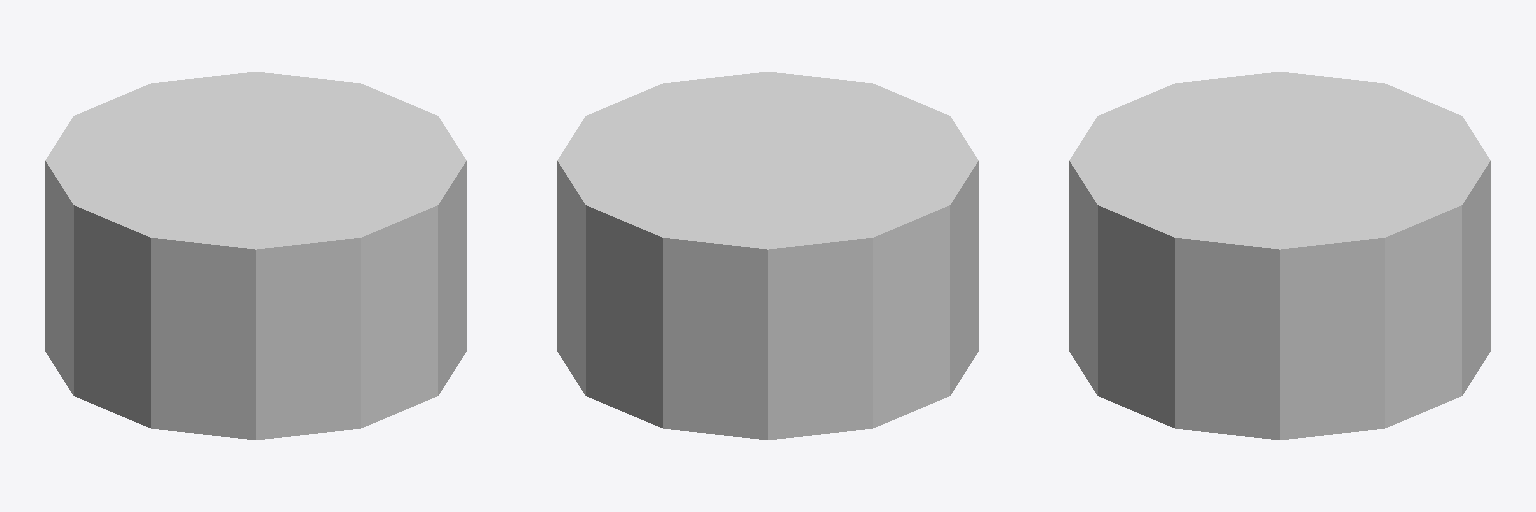
The model's file is mshCylinder.obj.
3 renders of one model, left to right at view 1: azimuth 30°, elevation 25°; view 2: azimuth 150°, elevation 25°; view 3: azimuth 270°, elevation 25°, orthographic.
Visible parts, largest first — view 1: mshCylinder; view 2: mshCylinder; view 3: mshCylinder.
Boxes of the visible parts, x1=… form: mshCylinder: x1=45, y1=72, x2=466, y2=439; mshCylinder: x1=557, y1=72, x2=978, y2=439; mshCylinder: x1=1069, y1=72, x2=1490, y2=439.
Bounding box in the file's own units: 1 × 0.5 × 1.